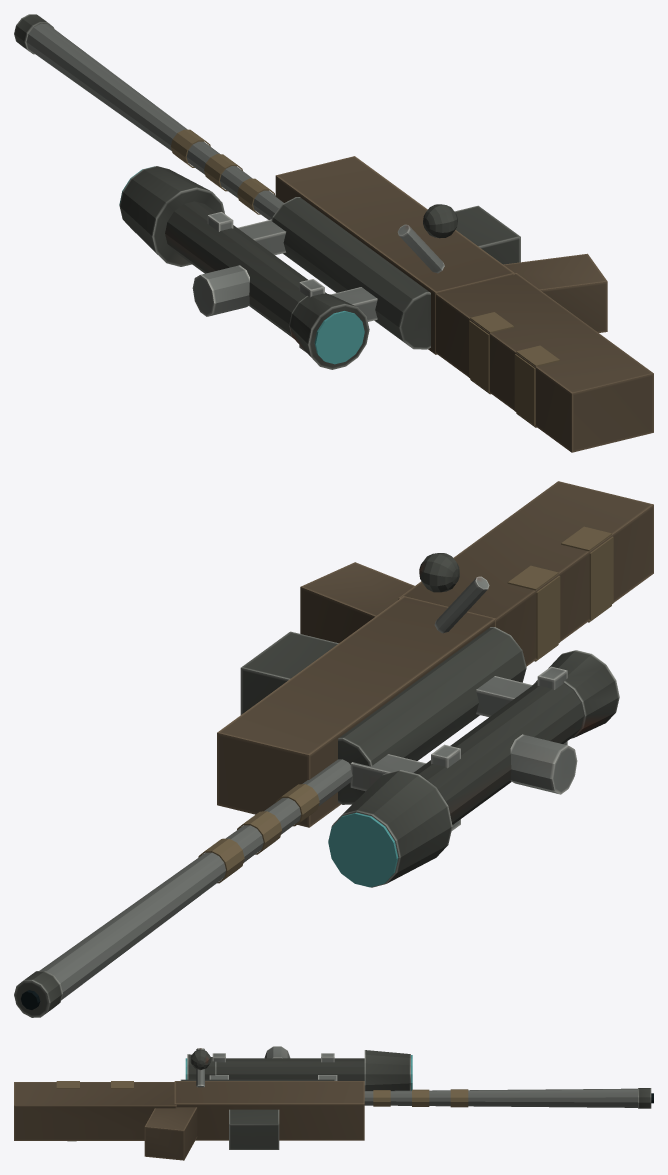
Rendered from remington_700.glb.
3 renders of one model, top to bottom at view 1: azimuth 30°, elevation 25°; view 2: azimuth 150°, elevation 25°; view 3: azimuth 270°, elevation 25°, orthographic. The views are drawn at different scales.
Visible parts, largest first — view 1: groundWeapon-sniper, sniperScope, frissonWeaponDress, sniperBolt; view 2: groundWeapon-sniper, sniperScope, frissonWeaponDress, sniperBolt; view 3: groundWeapon-sniper, sniperScope, frissonWeaponDress, sniperBolt.
Part boxes in pixels (x1=…): groundWeapon-sniper: x1=14, y1=14, x2=653, y2=452; sniperScope: x1=119, y1=166, x2=377, y2=369; frissonWeaponDress: x1=170, y1=129, x2=559, y2=427; sniperBolt: x1=397, y1=204, x2=457, y2=273; groundWeapon-sniper: x1=14, y1=481, x2=653, y2=1017; sniperScope: x1=328, y1=650, x2=619, y2=887; frissonWeaponDress: x1=198, y1=526, x2=613, y2=883; sniperBolt: x1=419, y1=553, x2=489, y2=633; groundWeapon-sniper: x1=14, y1=1079, x2=653, y2=1160; sniperScope: x1=185, y1=1046, x2=412, y2=1090; frissonWeaponDress: x1=56, y1=1081, x2=468, y2=1141; sniperBolt: x1=190, y1=1048, x2=210, y2=1087.
Size of the model in its own units: 0.5395 by 0.2254 by 1.65.
